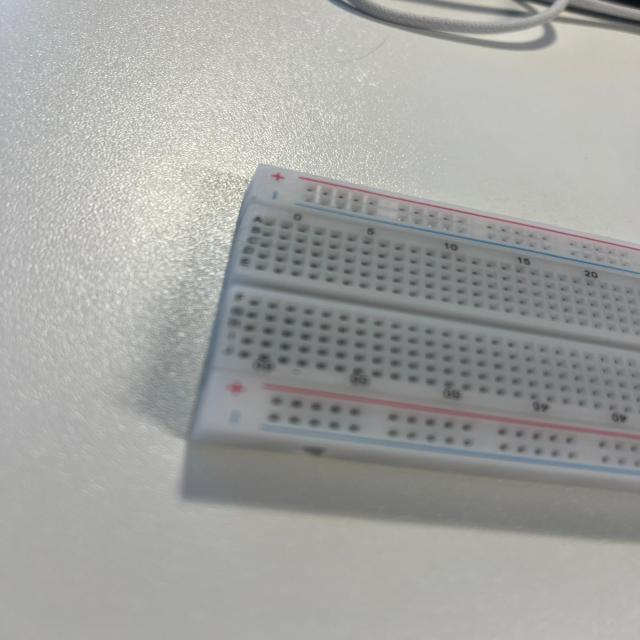BreadBoard: (241, 169, 639, 504)
